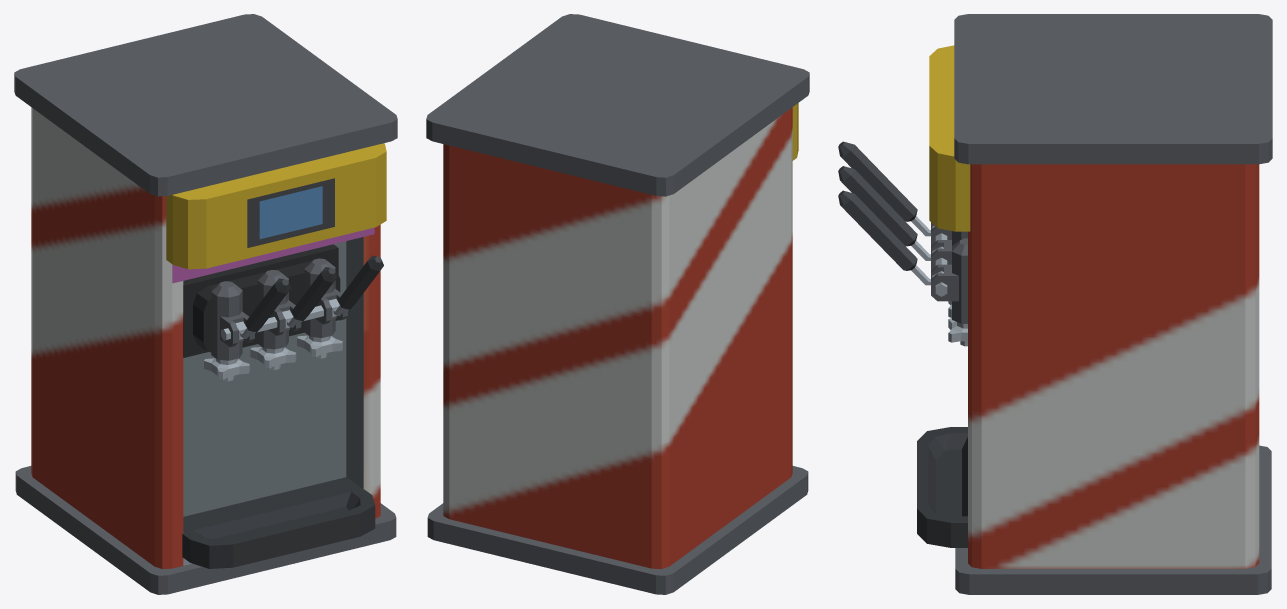
The model's file is Ice_Cream_Machine.fbx.
The picture shows the model from 3 angles, left to right: view 1: azimuth 30°, elevation 25°; view 2: azimuth 150°, elevation 25°; view 3: azimuth 270°, elevation 25°; orthographic projection. The views are drawn at different scales.
Parts seen in each view (by area): view 1: Ice_Cream_Machine; view 2: Ice_Cream_Machine; view 3: Ice_Cream_Machine.
Boxes of the visible parts, left/top/right/bottom form: Ice_Cream_Machine: left=14, top=14, right=397, bottom=594; Ice_Cream_Machine: left=426, top=14, right=809, bottom=594; Ice_Cream_Machine: left=838, top=14, right=1272, bottom=594.
Size of the model in its own units: 56.88 by 92.18 by 80.41.
Materials: 1 (1 with a texture image).
